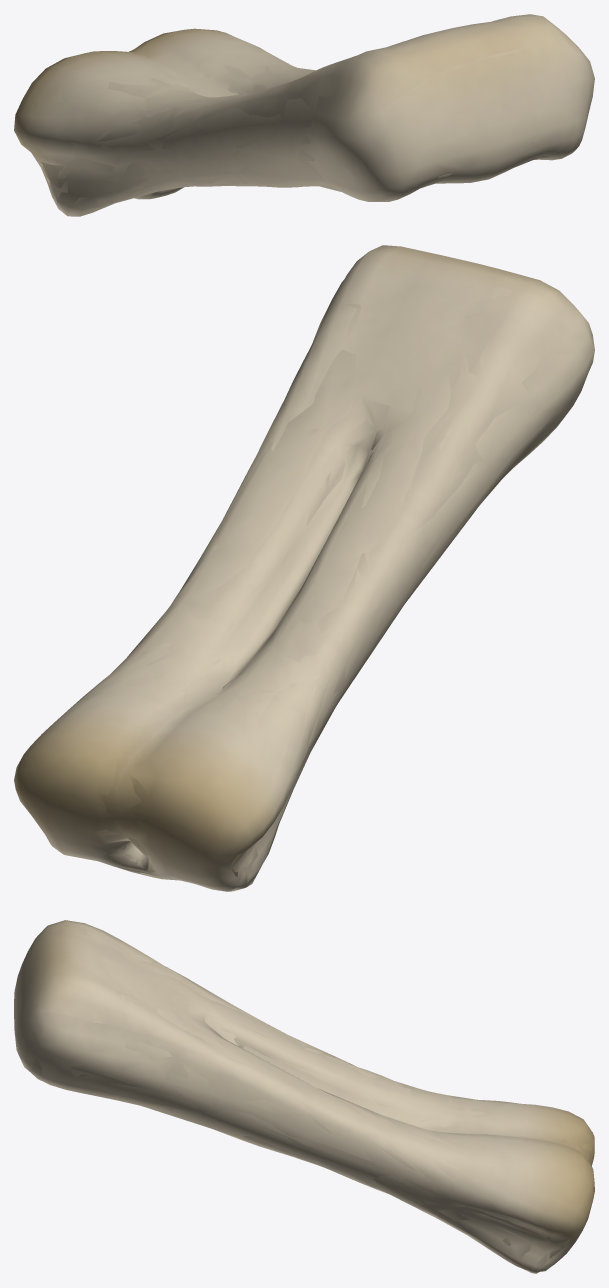
File: vertebrae caudales 14.fbx
The picture shows the model from 3 angles, top to bottom: view 1: azimuth 30°, elevation 25°; view 2: azimuth 150°, elevation 25°; view 3: azimuth 270°, elevation 25°; orthographic projection. The views are drawn at different scales.
Visible parts, largest first — view 1: vertebrae caudales 14, vertebrae caudales 14 high, vertebrae caudales 14 low; view 2: vertebrae caudales 14, vertebrae caudales 14 low, vertebrae caudales 14 high; view 3: vertebrae caudales 14, vertebrae caudales 14 high, vertebrae caudales 14 low.
Boxes of the visible parts, x1,y1,x2,y2 form: vertebrae caudales 14: [14, 14, 594, 216]; vertebrae caudales 14 high: [15, 16, 592, 216]; vertebrae caudales 14 low: [30, 43, 550, 203]; vertebrae caudales 14: [14, 245, 594, 891]; vertebrae caudales 14 low: [102, 287, 541, 876]; vertebrae caudales 14 high: [14, 245, 593, 890]; vertebrae caudales 14: [14, 920, 594, 1273]; vertebrae caudales 14 high: [14, 922, 594, 1272]; vertebrae caudales 14 low: [78, 928, 591, 1258].
Size of the model in its own units: 1.95 by 2.84 by 5.06.
